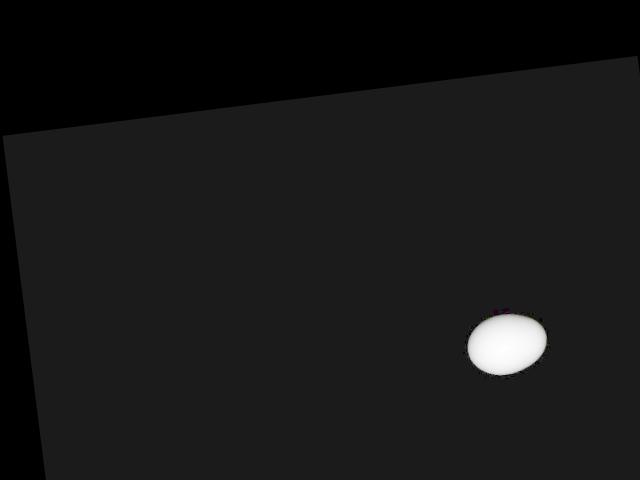egg: (463, 310, 549, 378)
